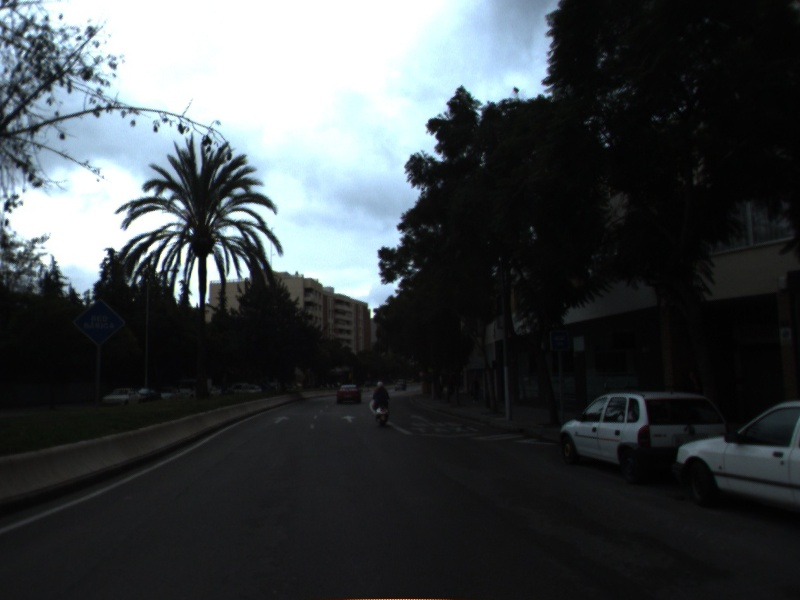STRAIGHT: (271, 414, 291, 426), (339, 413, 359, 425)
